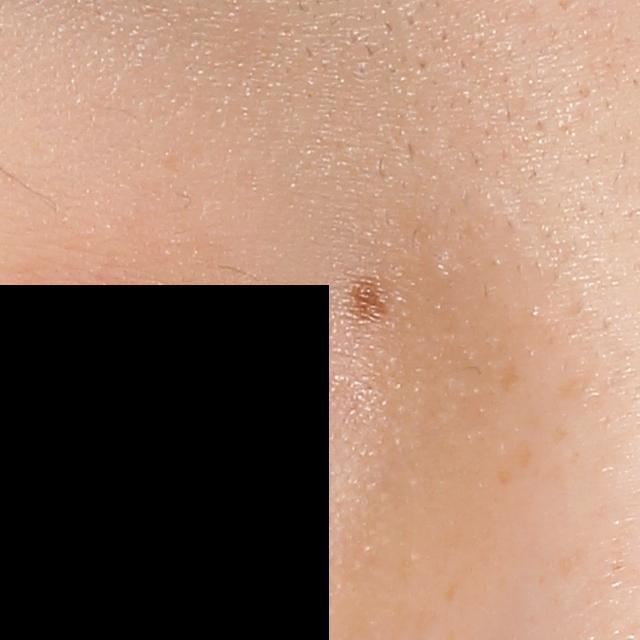melasma: (497, 358, 521, 399), (511, 439, 538, 473), (494, 465, 519, 489), (445, 580, 461, 606)
nevus: (345, 274, 390, 325)
